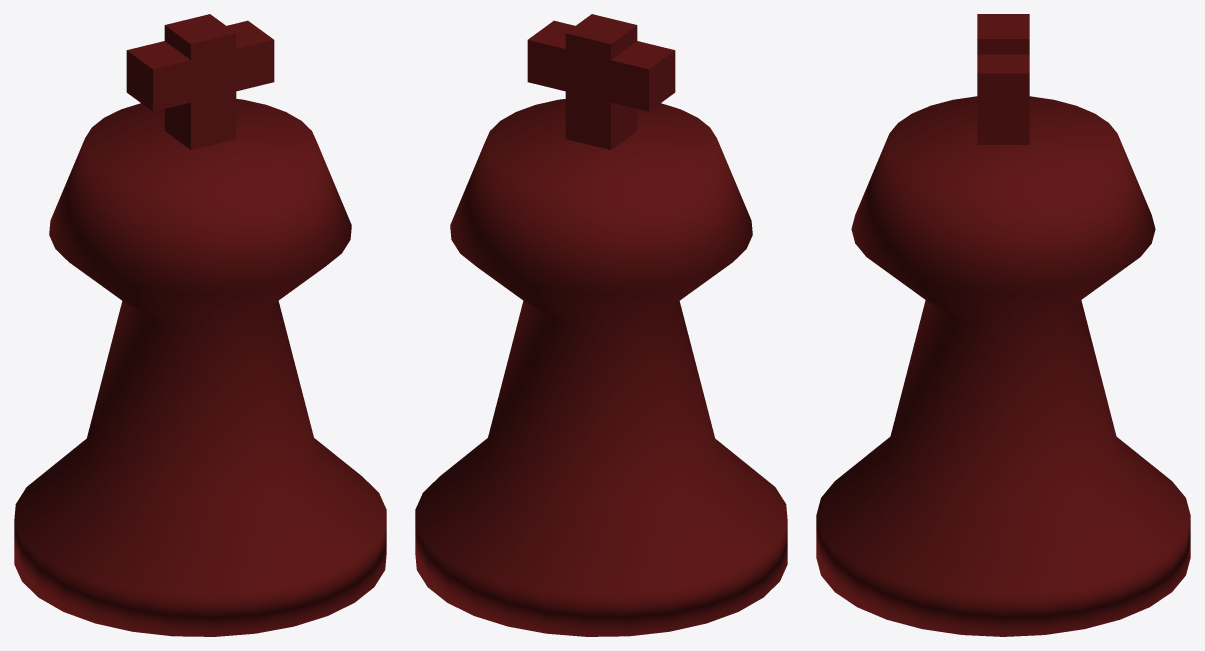
File: b-king.glb
3 renders of one model, left to right at view 1: azimuth 30°, elevation 25°; view 2: azimuth 150°, elevation 25°; view 3: azimuth 270°, elevation 25°, orthographic.
Parts seen in each view (by area): view 1: b-king; view 2: b-king; view 3: b-king.
Boxes of the visible parts, <box> form: b-king: <box>14,14,386,636</box>; b-king: <box>415,14,787,636</box>; b-king: <box>816,14,1190,636</box>.
Bounding box in the file's own units: 0.64 × 1 × 0.64.
